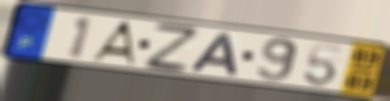1: (69, 16, 94, 60)
5: (302, 41, 347, 87)
9: (256, 37, 299, 83)
A: (186, 31, 241, 77), (87, 20, 137, 67)
Z: (142, 21, 200, 74)
